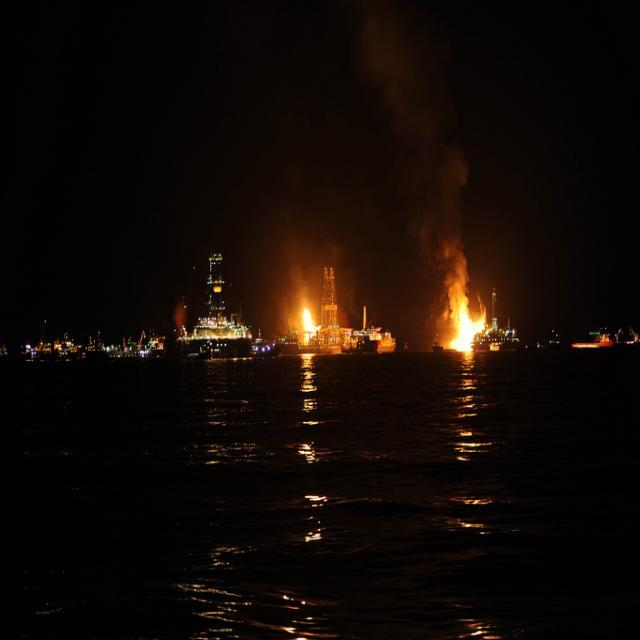Fire: (453, 305, 483, 359), (300, 310, 320, 332)
